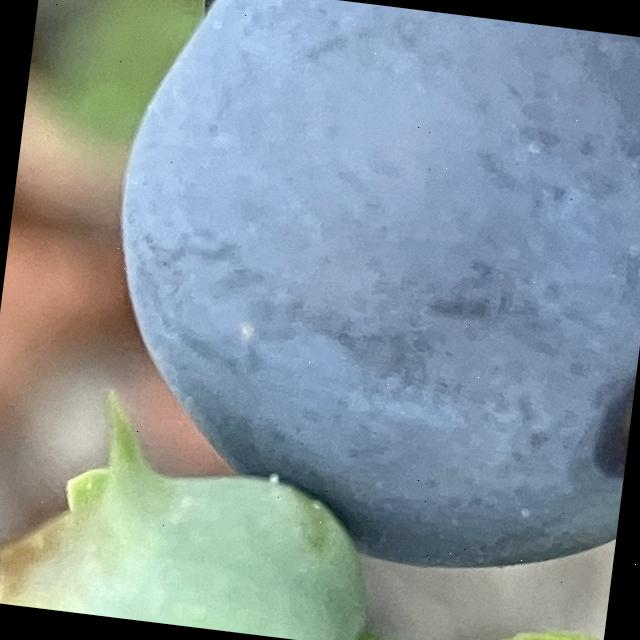Blueberries: (71, 0, 640, 593), (0, 397, 407, 640)
